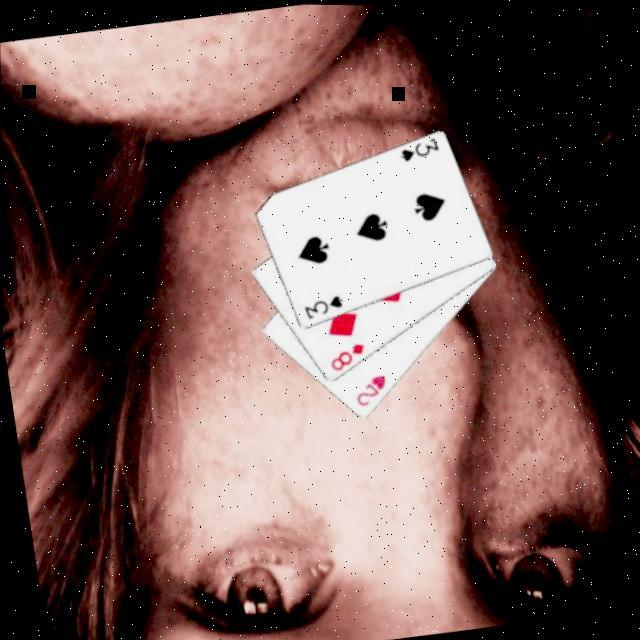2H: (350, 371, 392, 412)
3S: (300, 290, 348, 323), (396, 134, 444, 166)
8D: (325, 338, 371, 375)
